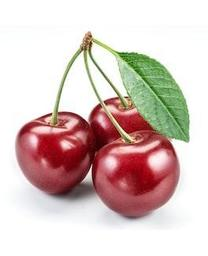cherry: (91, 131, 181, 217), (14, 111, 95, 196), (91, 96, 165, 174)
